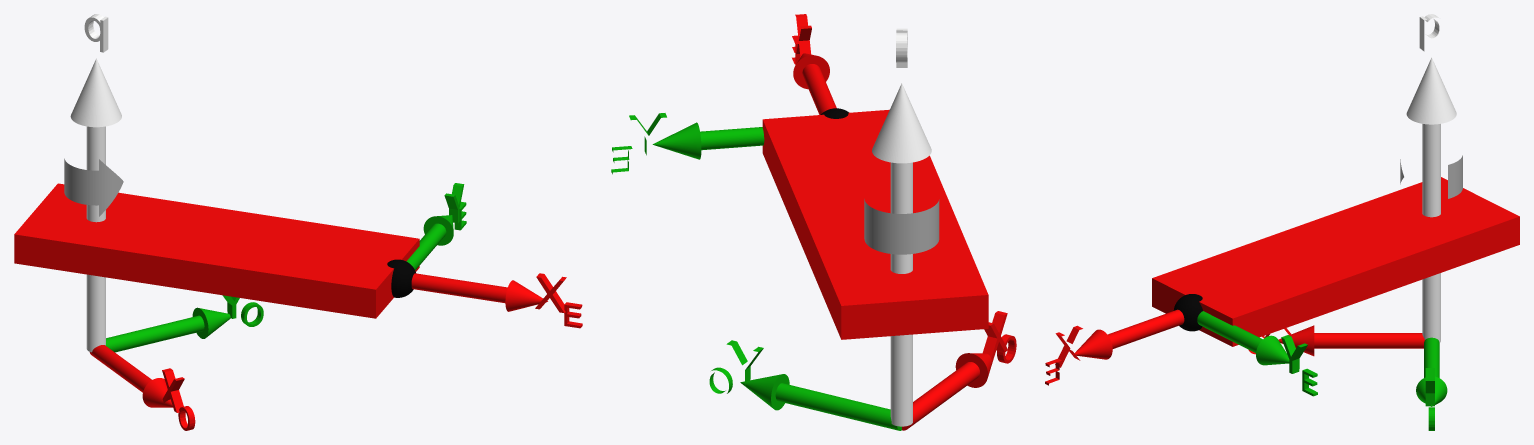
File: fig7_4a.gltf
3 renders of one model, left to right at view 1: azimuth 30°, elevation 25°; view 2: azimuth 150°, elevation 25°; view 3: azimuth 270°, elevation 25°, orthographic. The views are drawn at different scales.
Visible parts, largest first — view 1: Renderer Node; view 2: Renderer Node; view 3: Renderer Node.
Boxes of the visible parts, x1,y1,x2,y2 form: Renderer Node: (14,14,582,430); Renderer Node: (611,14,1016,430); Renderer Node: (1045,14,1519,430).
Size of the model in its own units: 1.4 by 1.2 by 1.52.
